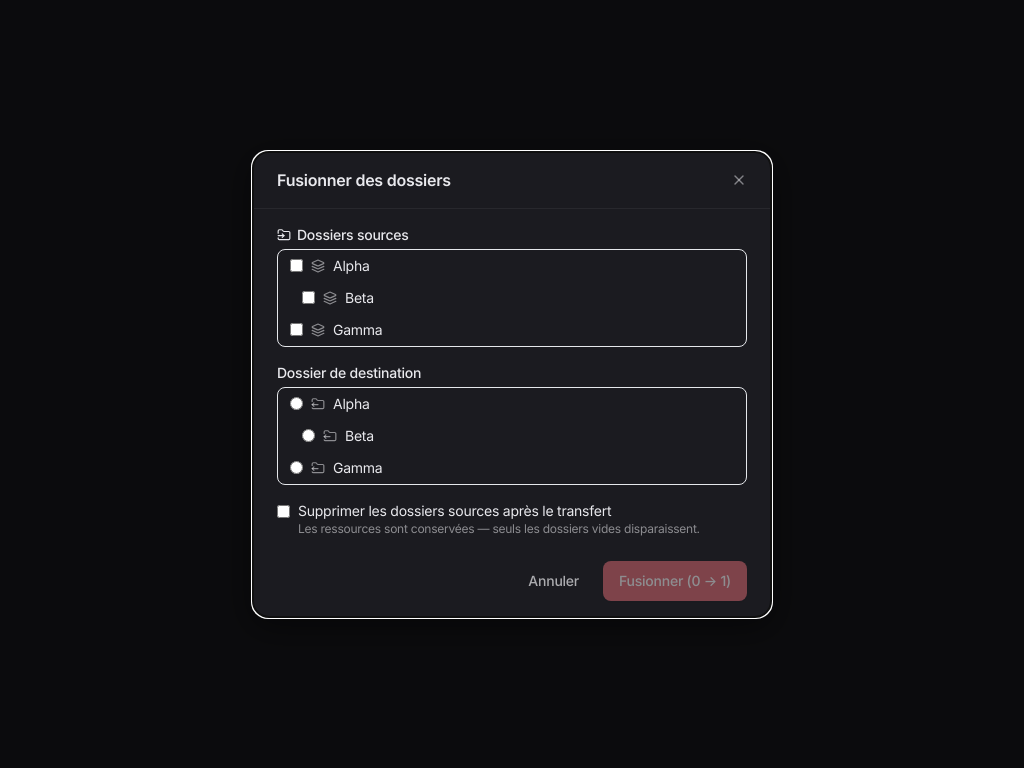
Test: MergeFoldersDialog — consolidation de dossiers › désactive les radios de destination correspondant aux sources
The width and height of the screenshot is (1024, 768).
Click the checkbox named "Sélectionner Beta".
click(308, 298)  # box [302,291,315,304]
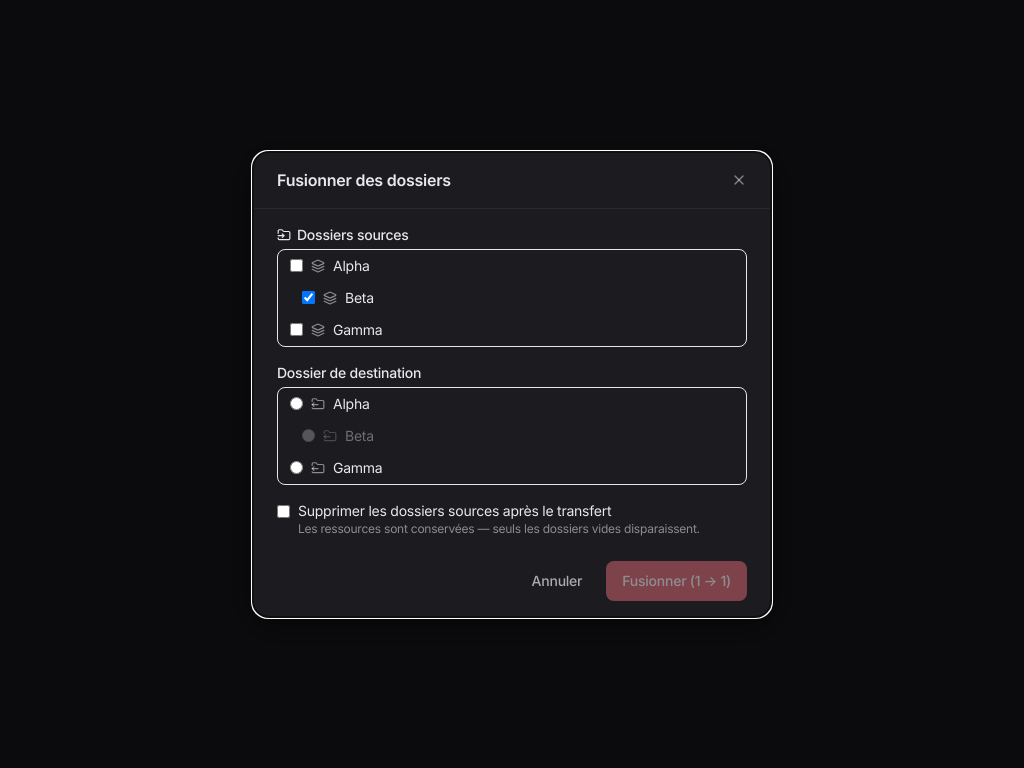
Expected: the radio button labelled "Gamma" is enabled, [290,461,303,474]
Result: the radio button labelled "Beta" is disabled at [302,429,315,442]
